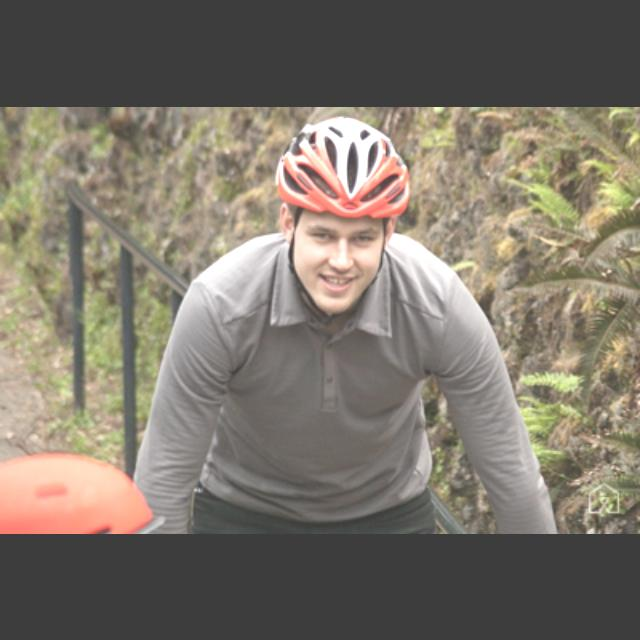With Helmet: (274, 115, 412, 318)
